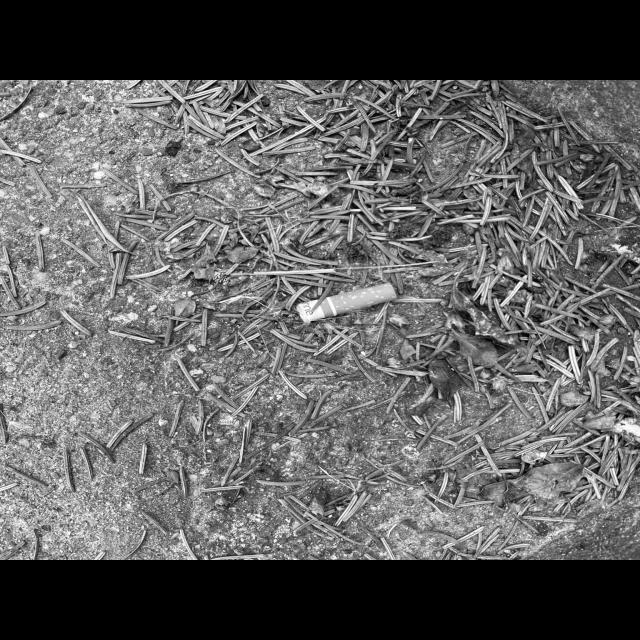other waste: (295, 282, 397, 324)
